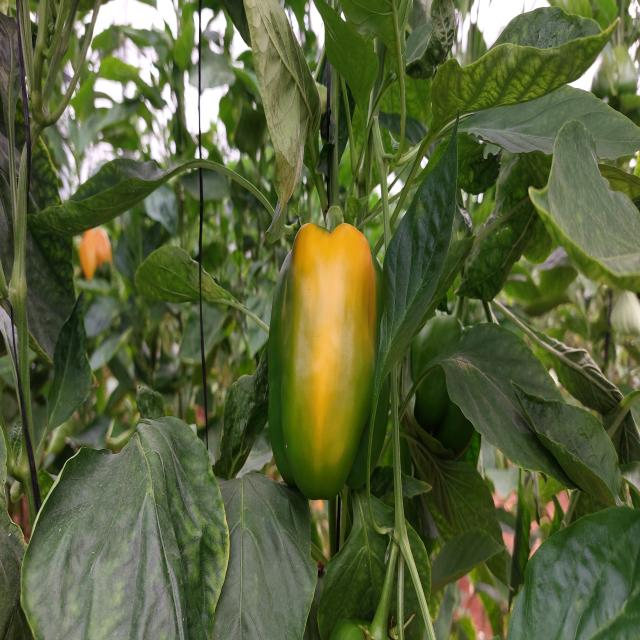GreenishYellow--Can-be-Harvested: (268, 204, 388, 494)
